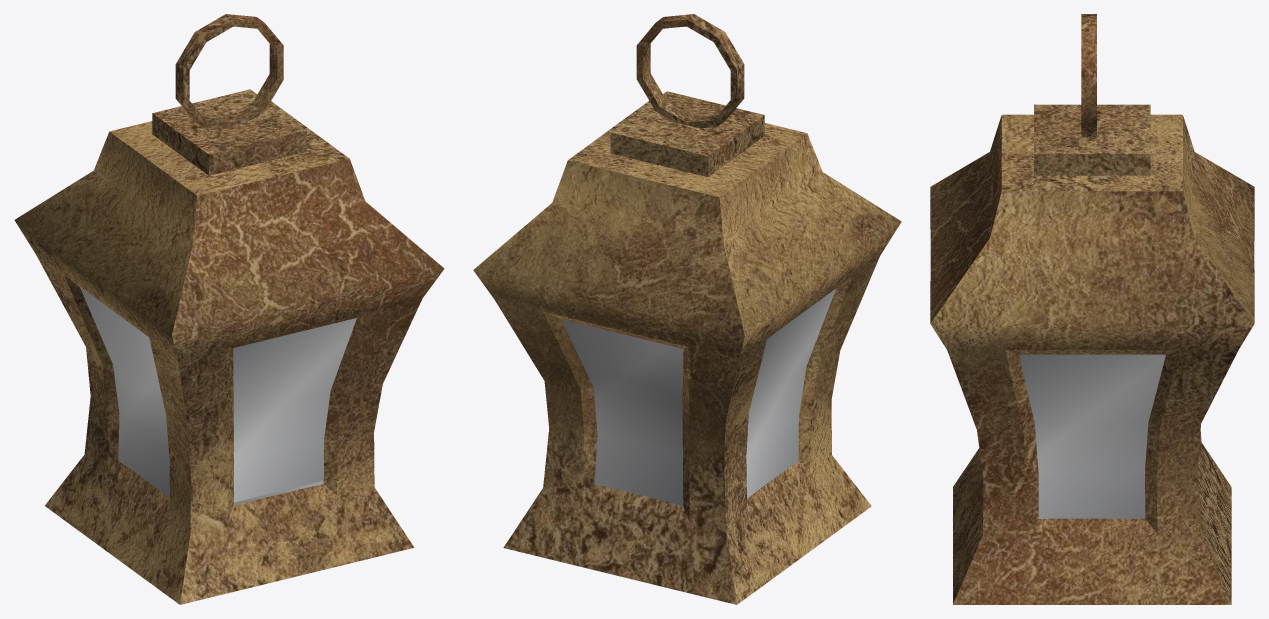
Rendered from lantern.FBX.
3 views of the same model, side by side, from view 1: azimuth 30°, elevation 25°; view 2: azimuth 150°, elevation 25°; view 3: azimuth 270°, elevation 25° (orthographic). The views are drawn at different scales.
Parts seen in each view (by area): view 1: Lantern; view 2: Lantern; view 3: Lantern.
Part boxes in pixels (x1,y1,x2,y2): Lantern: (14, 14, 444, 604); Lantern: (473, 14, 901, 604); Lantern: (930, 14, 1254, 604).
Size of the model in its own units: 8.85 by 15.97 by 8.85.
Materials: 1 (1 with a texture image).
